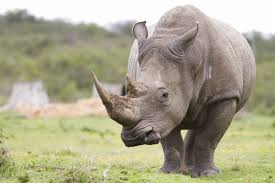Rhinoceros: (89, 1, 258, 178)
